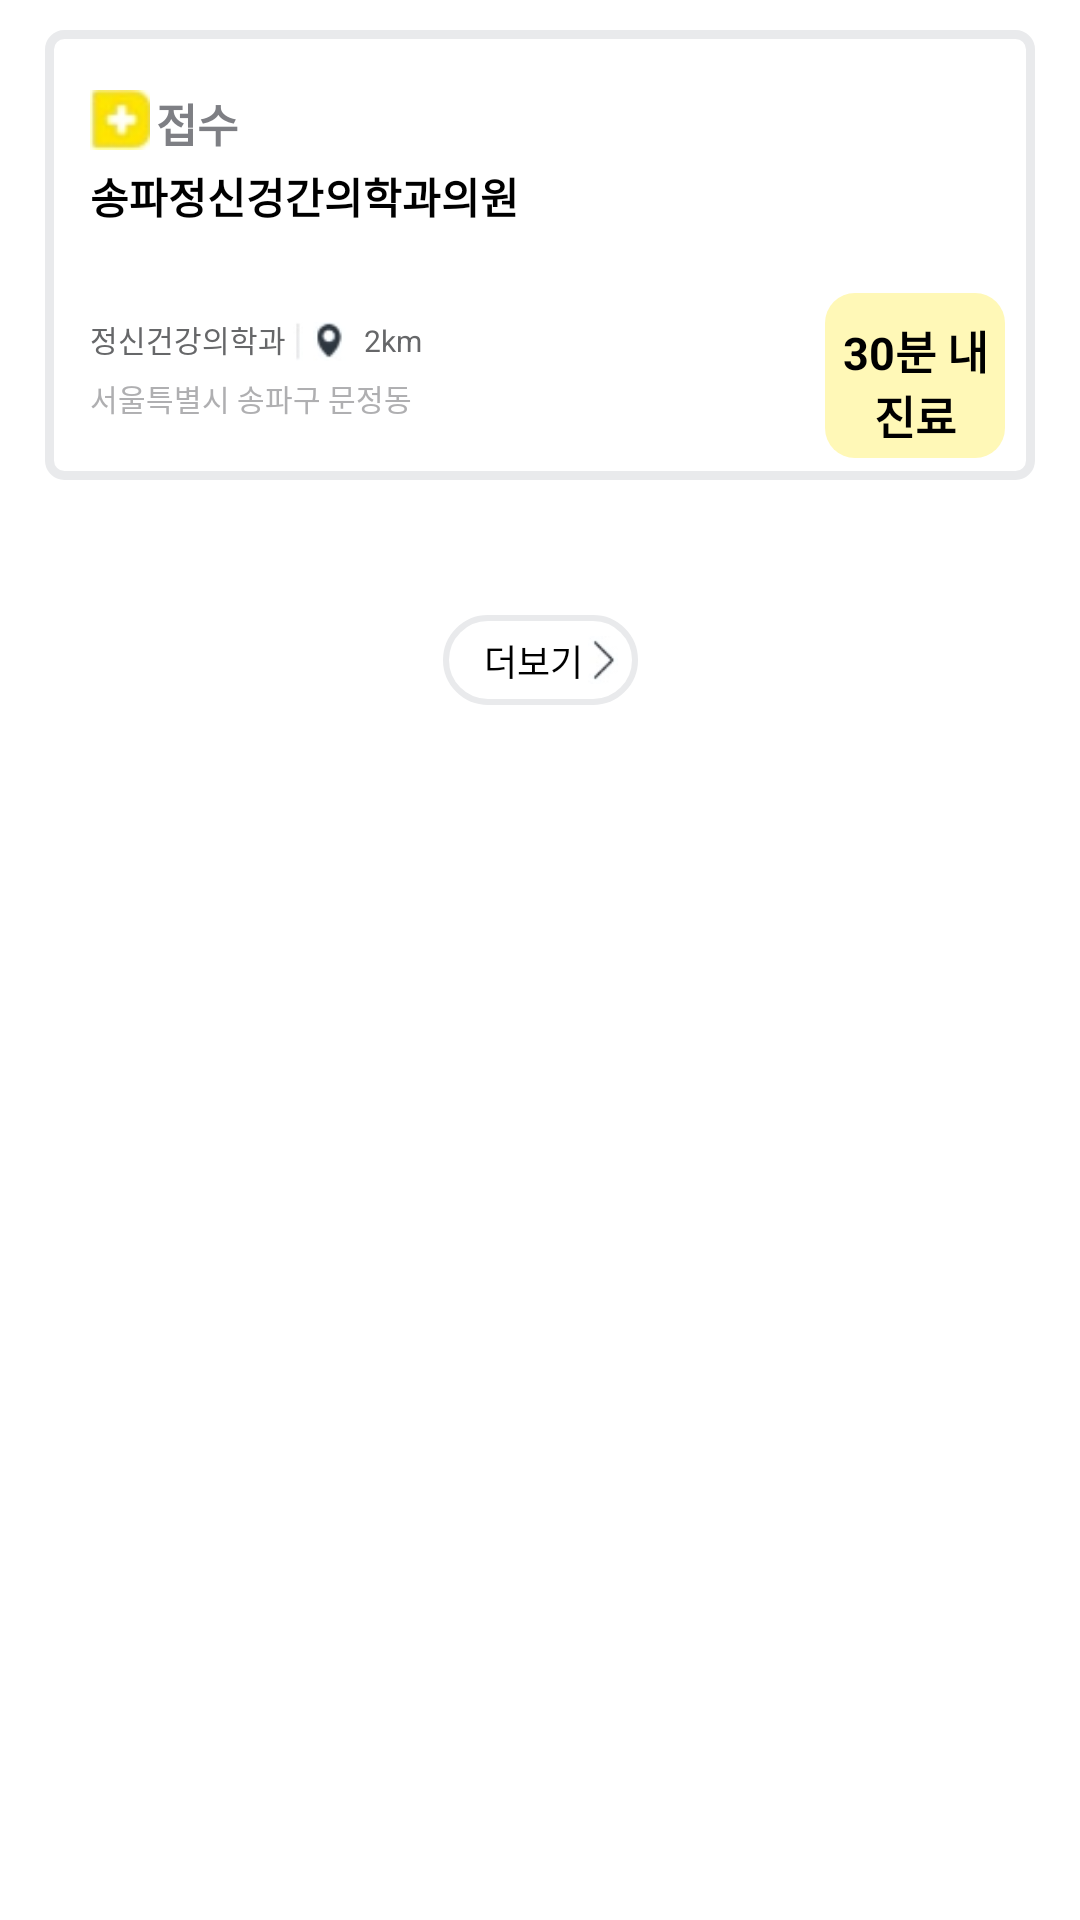

Icon bounding boxes for this 1080px×1920px phone screenshot, format (x1,y1,x2,y2):
home hospital address: (317,323,342,357)
home weekend plus: (90,90,150,150)
